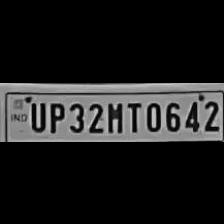0: (142, 99, 162, 133)
2: (84, 99, 104, 133), (201, 96, 219, 132)
3: (65, 99, 84, 133)
4: (182, 96, 198, 132)
6: (162, 97, 180, 132)
M: (104, 99, 124, 134)
P: (46, 99, 64, 134)
T: (124, 98, 142, 134)
U: (27, 99, 46, 133)
